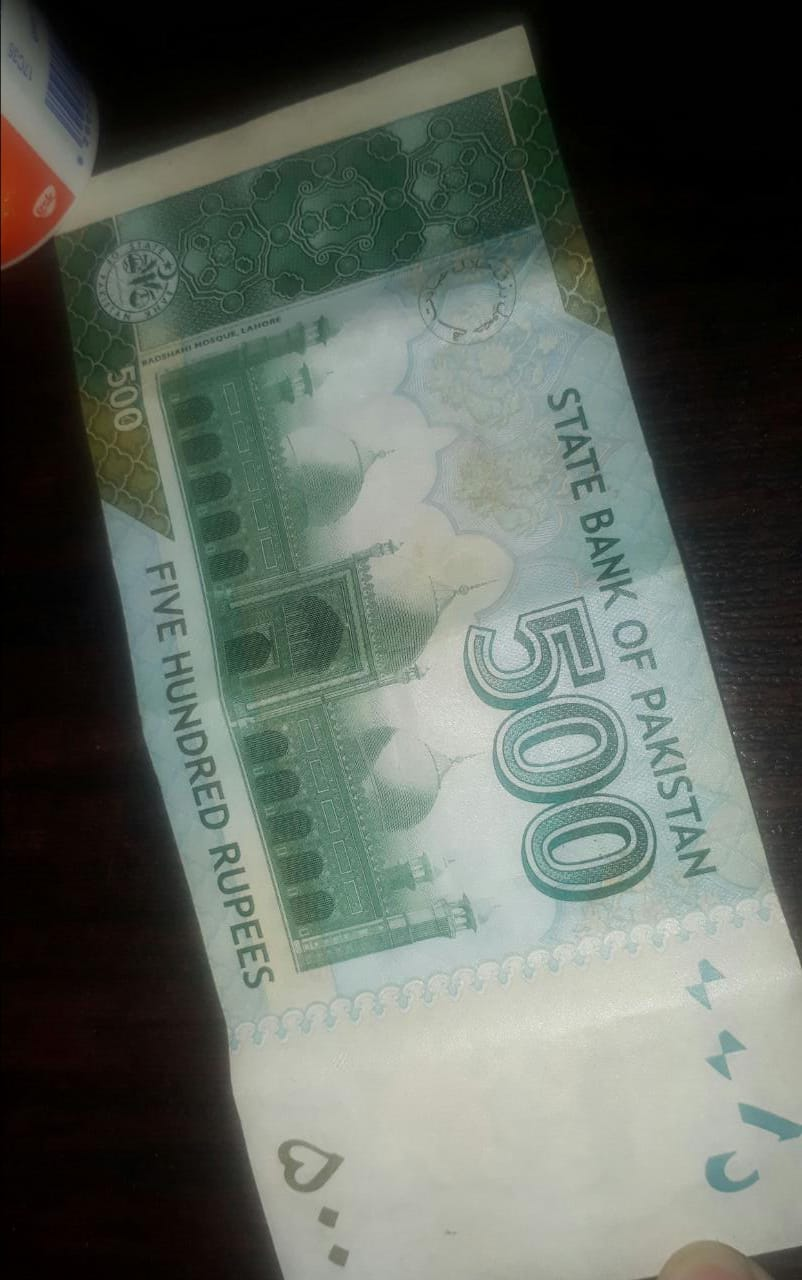500 rupee: (39, 19, 801, 1280)
